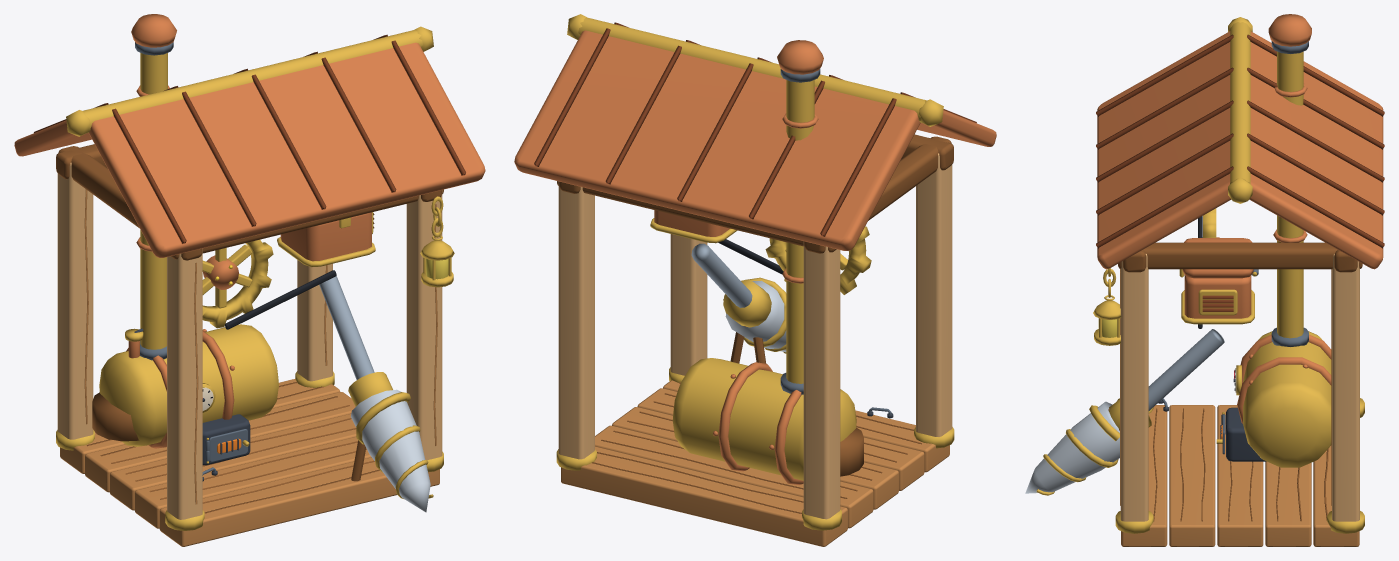
Rendered from IceDrill_T2.fbx.
3 renders of one model, left to right at view 1: azimuth 30°, elevation 25°; view 2: azimuth 150°, elevation 25°; view 3: azimuth 270°, elevation 25°, orthographic. The views are drawn at different scales.
Parts seen in each view (by area): view 1: IceDrillT2Roof, IceDrillT2Posts, IceDrillT2Deck, IceDrillT2Boiler, IceDrillT2Gearbox, IceDrillT2BitA, IceDrillT2Chimney, IceDrillT2Flywheel, IceDrillT2Firebox, IceDrillT2Lantern; view 2: IceDrillT2Roof, IceDrillT2Posts, IceDrillT2Deck, IceDrillT2Boiler, IceDrillT2Chimney, IceDrillT2Gearbox, IceDrillT2BitA, IceDrillT2Flywheel; view 3: IceDrillT2Roof, IceDrillT2Posts, IceDrillT2Deck, IceDrillT2Boiler, IceDrillT2Gearbox, IceDrillT2Chimney, IceDrillT2BitA, IceDrillT2Firebox, IceDrillT2Lantern.
Part boxes in pixels (left/top/right/bottom): IceDrillT2Roof: left=14, top=26, right=485, bottom=257; IceDrillT2Posts: left=56, top=144, right=443, bottom=530; IceDrillT2Deck: left=60, top=379, right=439, bottom=546; IceDrillT2Boiler: left=92, top=324, right=278, bottom=448; IceDrillT2Gearbox: left=225, top=212, right=392, bottom=481; IceDrillT2BitA: left=350, top=389, right=433, bottom=512; IceDrillT2Chimney: left=131, top=14, right=176, bottom=360; IceDrillT2Flywheel: left=202, top=239, right=273, bottom=328; IceDrillT2Firebox: left=202, top=414, right=250, bottom=465; IceDrillT2Lantern: left=420, top=196, right=454, bottom=287; IceDrillT2Roof: left=514, top=14, right=996, bottom=250; IceDrillT2Posts: left=556, top=134, right=954, bottom=530; IceDrillT2Deck: left=561, top=380, right=949, bottom=546; IceDrillT2Boiler: left=672, top=358, right=863, bottom=485; IceDrillT2Chimney: left=777, top=40, right=823, bottom=394; IceDrillT2Gearbox: left=650, top=210, right=783, bottom=363; IceDrillT2BitA: left=723, top=277, right=786, bottom=353; IceDrillT2Flywheel: left=765, top=226, right=871, bottom=294; IceDrillT2Roof: left=1096, top=17, right=1384, bottom=269; IceDrillT2Posts: left=1115, top=242, right=1364, bottom=533; IceDrillT2Deck: left=1121, top=398, right=1359, bottom=546; IceDrillT2Boiler: left=1233, top=331, right=1331, bottom=467; IceDrillT2Gearbox: left=1108, top=216, right=1258, bottom=430; IceDrillT2Chimney: left=1268, top=14, right=1311, bottom=346; IceDrillT2BitA: left=1025, top=401, right=1119, bottom=495; IceDrillT2Firebox: left=1216, top=407, right=1266, bottom=461; IceDrillT2Lantern: left=1093, top=268, right=1121, bottom=345.
Bounding box in the file's own units: 211 × 250 × 187.
